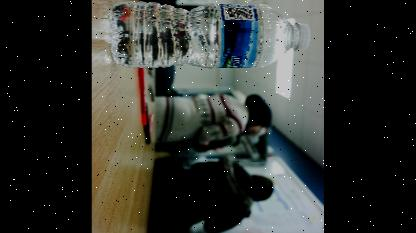Plastic Bottle: (106, 2, 309, 68)
